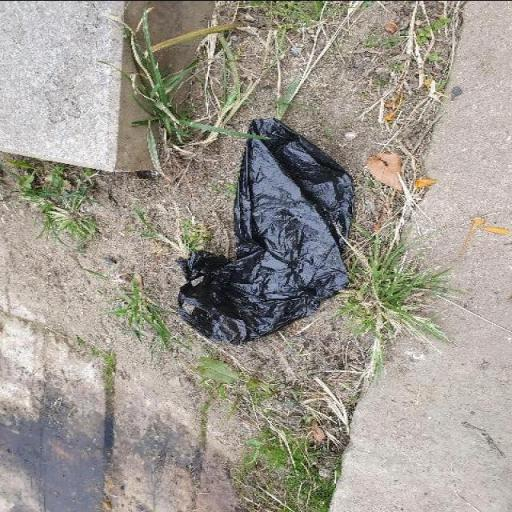plastic-bag: (174, 116, 350, 346)
